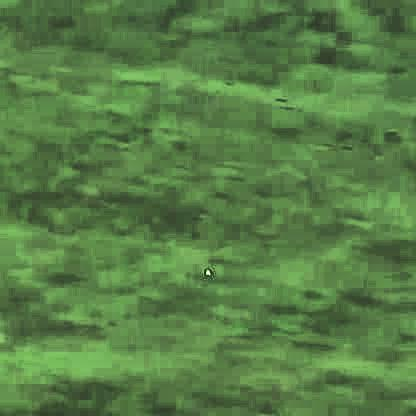golfball: (203, 267, 210, 272)
